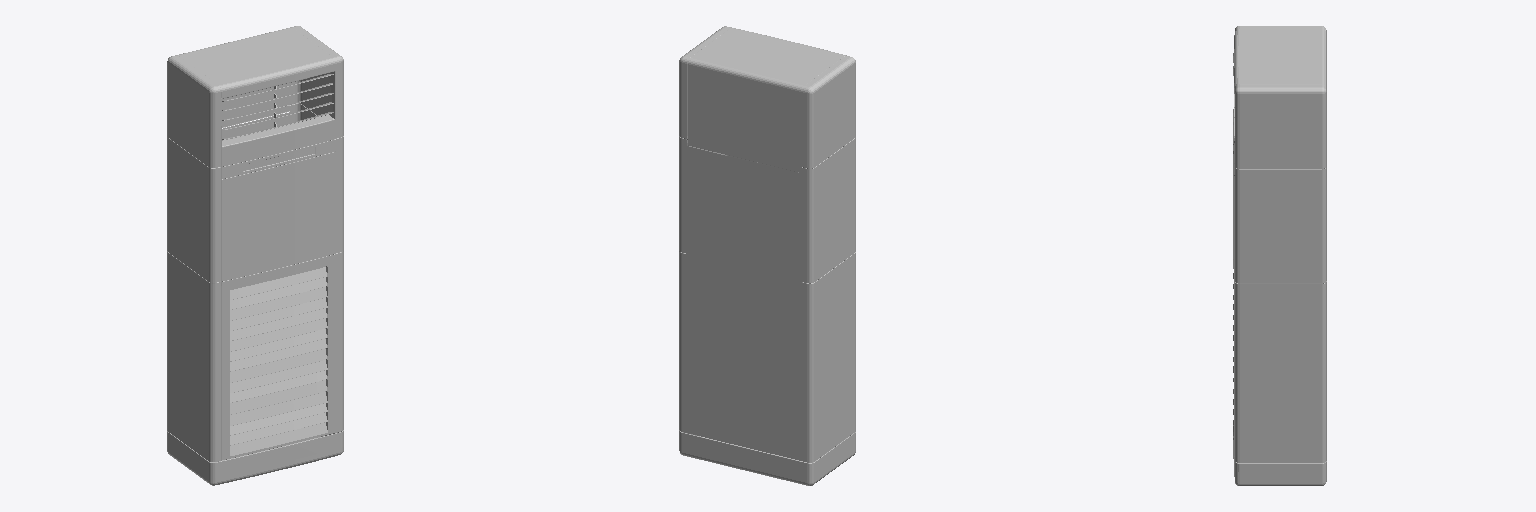
Rendered from air-con1.obj.
3 renders of one model, left to right at view 1: azimuth 30°, elevation 25°; view 2: azimuth 150°, elevation 25°; view 3: azimuth 270°, elevation 25°, orthographic.
Visible parts, largest first — view 1: Object02_01; view 2: Object02_01; view 3: Object02_01.
Boxes of the visible parts, box(x1,y1,x2,y2) form: Object02_01: box(167, 26, 343, 485); Object02_01: box(679, 26, 855, 485); Object02_01: box(1233, 26, 1326, 485).
Bounding box in the file's own units: 4879 × 13821 × 2924.